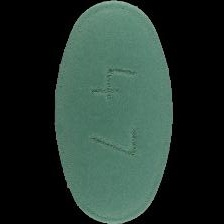65862-203: (0, 0, 224, 224)
